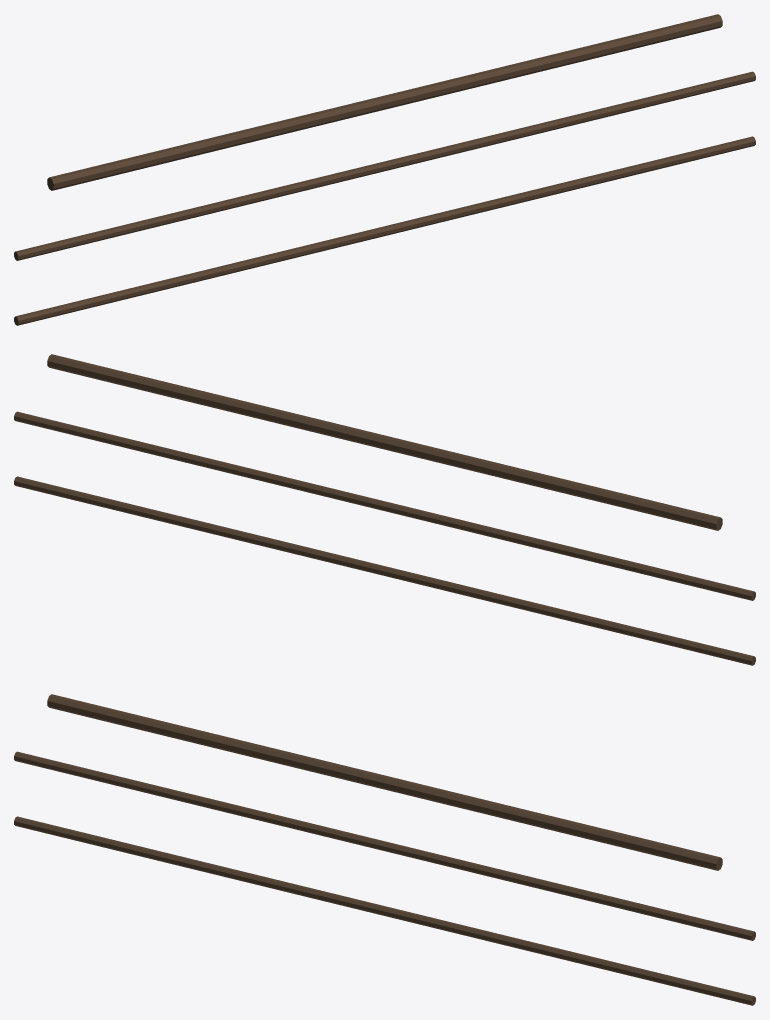
The model's file is SM_Street_GuardPipe_Brown_300_01.gltf.
The picture shows the model from 3 angles, top to bottom: view 1: azimuth 30°, elevation 25°; view 2: azimuth 150°, elevation 25°; view 3: azimuth 330°, elevation 25°; orthographic projection.
Parts seen in each view (by area): view 1: SM_Street_GuardPipe_Brown_300_01; view 2: SM_Street_GuardPipe_Brown_300_01; view 3: SM_Street_GuardPipe_Brown_300_01.
Boxes of the visible parts, <box> form: SM_Street_GuardPipe_Brown_300_01: <box>14,14,755,325</box>; SM_Street_GuardPipe_Brown_300_01: <box>14,354,755,665</box>; SM_Street_GuardPipe_Brown_300_01: <box>14,694,755,1005</box>.
Bounding box in the file's own units: 2.98 × 0.5339 × 0.0449.
Materials: 1 (1 with a texture image).
